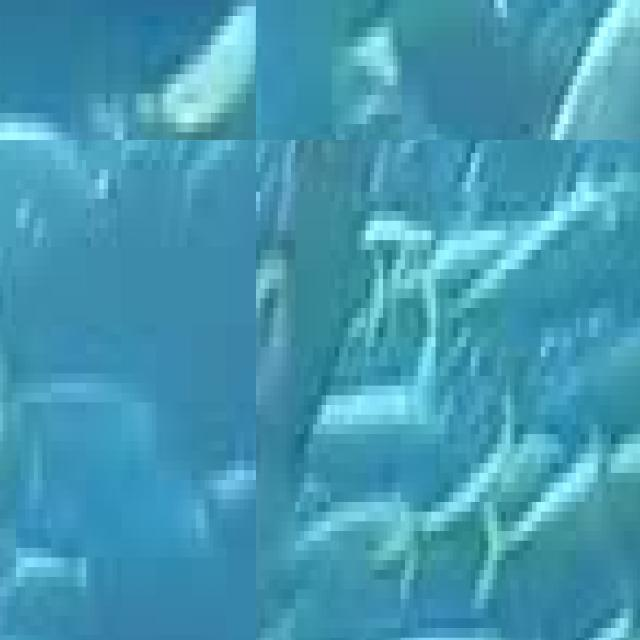fish: (380, 0, 640, 140), (0, 0, 256, 140)
